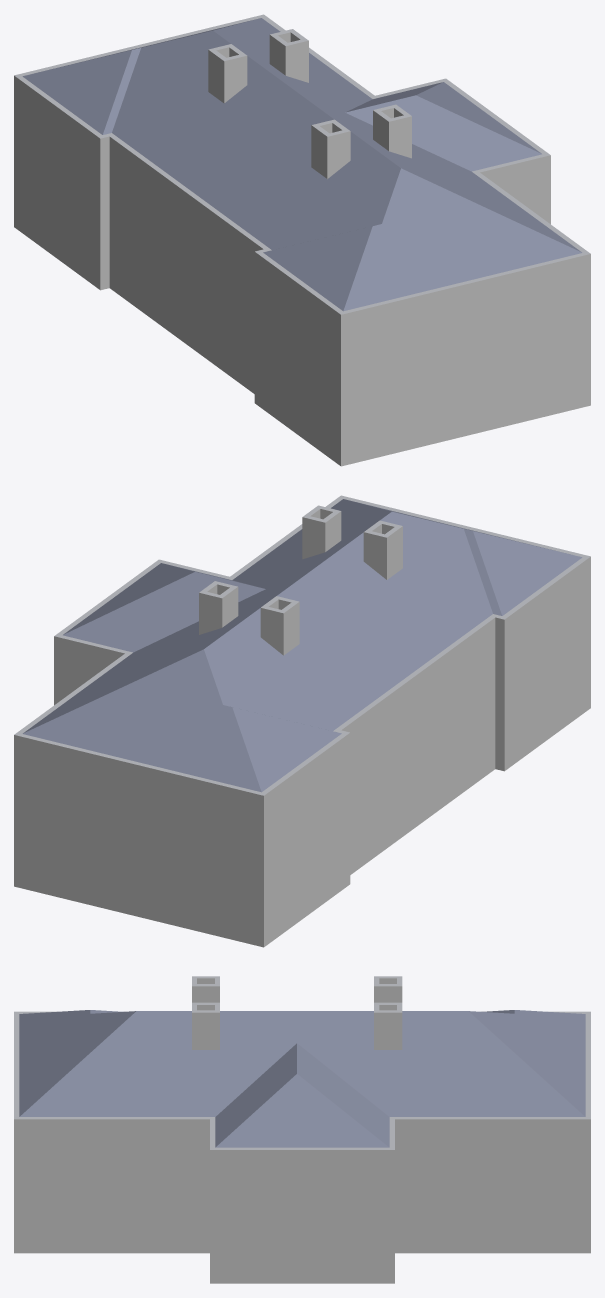
The model's file is bingham.dae.
3 views of the same model, one above another, from view 1: azimuth 30°, elevation 25°; view 2: azimuth 150°, elevation 25°; view 3: azimuth 270°, elevation 25° (orthographic). The views are drawn at different scales.
Visible parts, largest first — view 1: SketchUp (×7); view 2: SketchUp (×7); view 3: SketchUp (×7).
Part boxes in pixels (x1,y1,x2,y2): SketchUp (×7): [14, 14, 590, 466]; SketchUp (×7): [14, 495, 590, 947]; SketchUp (×7): [14, 986, 590, 1283].
Bounding box in the file's own units: 118 × 208 × 82.2.
